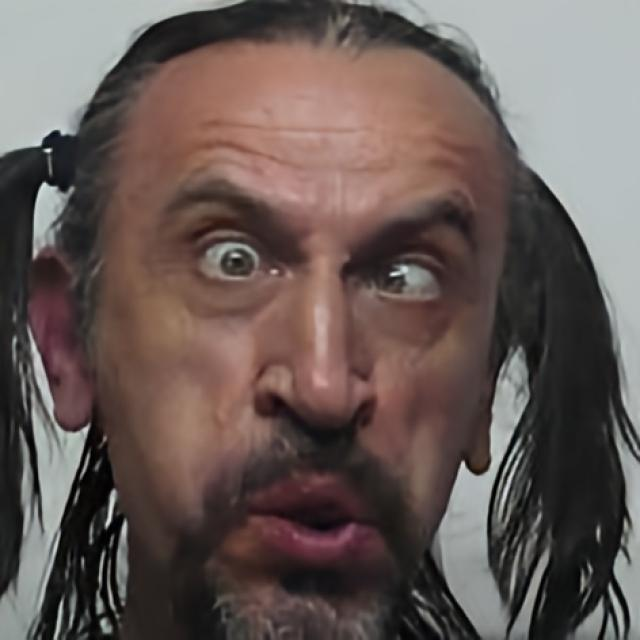fear: (94, 43, 506, 640)
